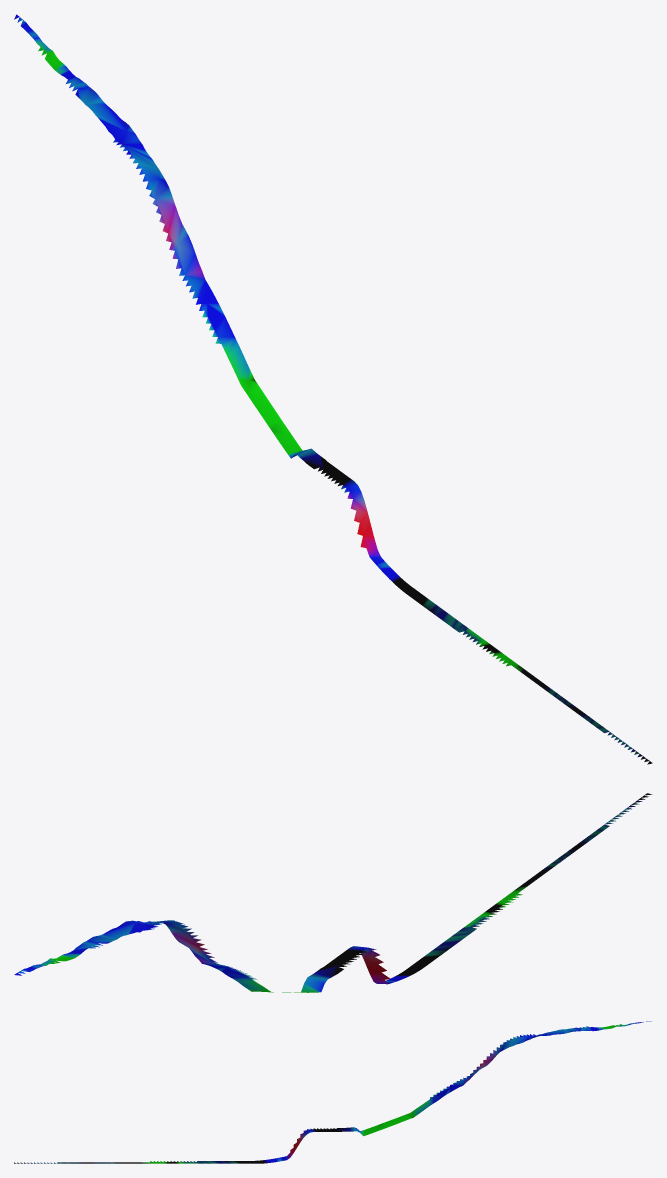
The model's file is E_2_1_anel.glb.
3 renders of one model, top to bottom at view 1: azimuth 30°, elevation 25°; view 2: azimuth 150°, elevation 25°; view 3: azimuth 270°, elevation 25°, orthographic. The views are drawn at different scales.
Parts seen in each view (by area): view 1: E_2_1; view 2: E_2_1; view 3: E_2_1.
Part boxes in pixels (x1,y1,x2,y2): E_2_1: (14, 14, 652, 764); E_2_1: (14, 793, 652, 992); E_2_1: (14, 1021, 651, 1163).
Bounding box in the file's own units: 12.83 × 151 × 614.
